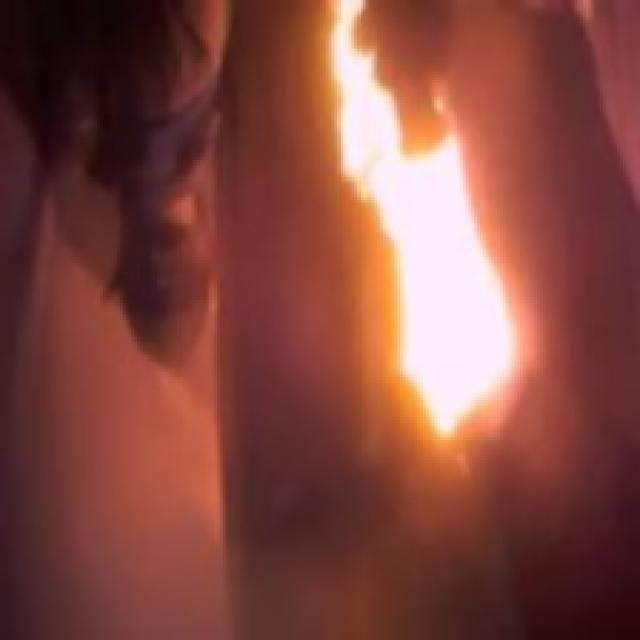fire: (353, 166, 510, 443)
